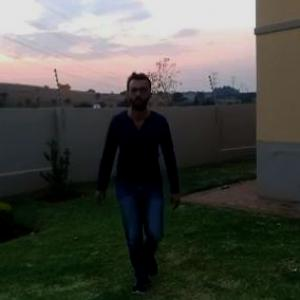follow: (104, 76, 176, 288)
